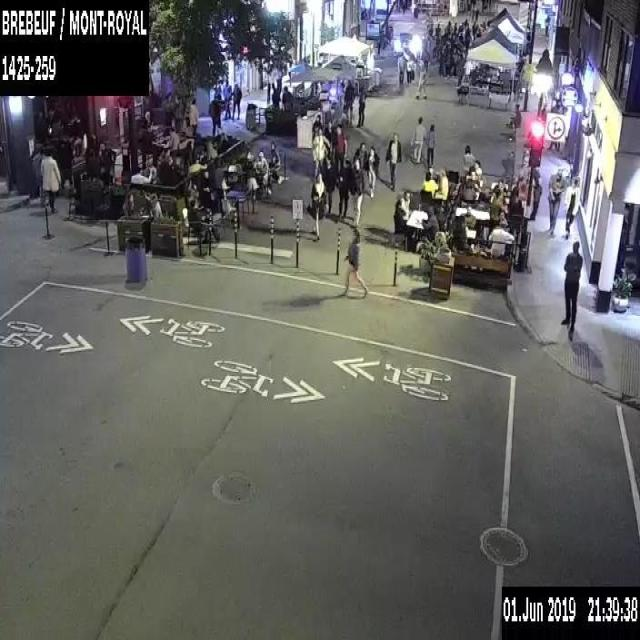pedestrian: (560, 239, 583, 340), (340, 227, 368, 300), (546, 164, 565, 239), (41, 144, 61, 213), (188, 200, 218, 243), (564, 175, 584, 238), (392, 198, 414, 250), (335, 158, 353, 220), (310, 173, 326, 241), (348, 156, 364, 224), (384, 130, 401, 190), (318, 152, 334, 212), (310, 125, 326, 183), (29, 147, 44, 208), (330, 120, 345, 180), (488, 222, 514, 256), (529, 166, 542, 222), (412, 115, 425, 168), (366, 145, 378, 196), (424, 120, 436, 170), (255, 151, 268, 190), (422, 206, 438, 237), (344, 78, 354, 126), (488, 188, 502, 222), (504, 102, 522, 128), (269, 140, 280, 182), (416, 58, 427, 98), (231, 81, 242, 119), (209, 99, 220, 137), (421, 170, 438, 194), (461, 144, 475, 172), (188, 96, 198, 135), (130, 165, 152, 182), (459, 205, 475, 228), (356, 82, 364, 126), (354, 141, 366, 170), (165, 126, 179, 150), (223, 79, 231, 121), (437, 168, 448, 198), (396, 50, 405, 86), (462, 180, 476, 201), (281, 85, 292, 111), (406, 52, 415, 83), (399, 191, 410, 214), (465, 170, 479, 187), (469, 160, 482, 178), (493, 178, 506, 195), (465, 166, 478, 180), (444, 20, 452, 34), (434, 22, 441, 37)
